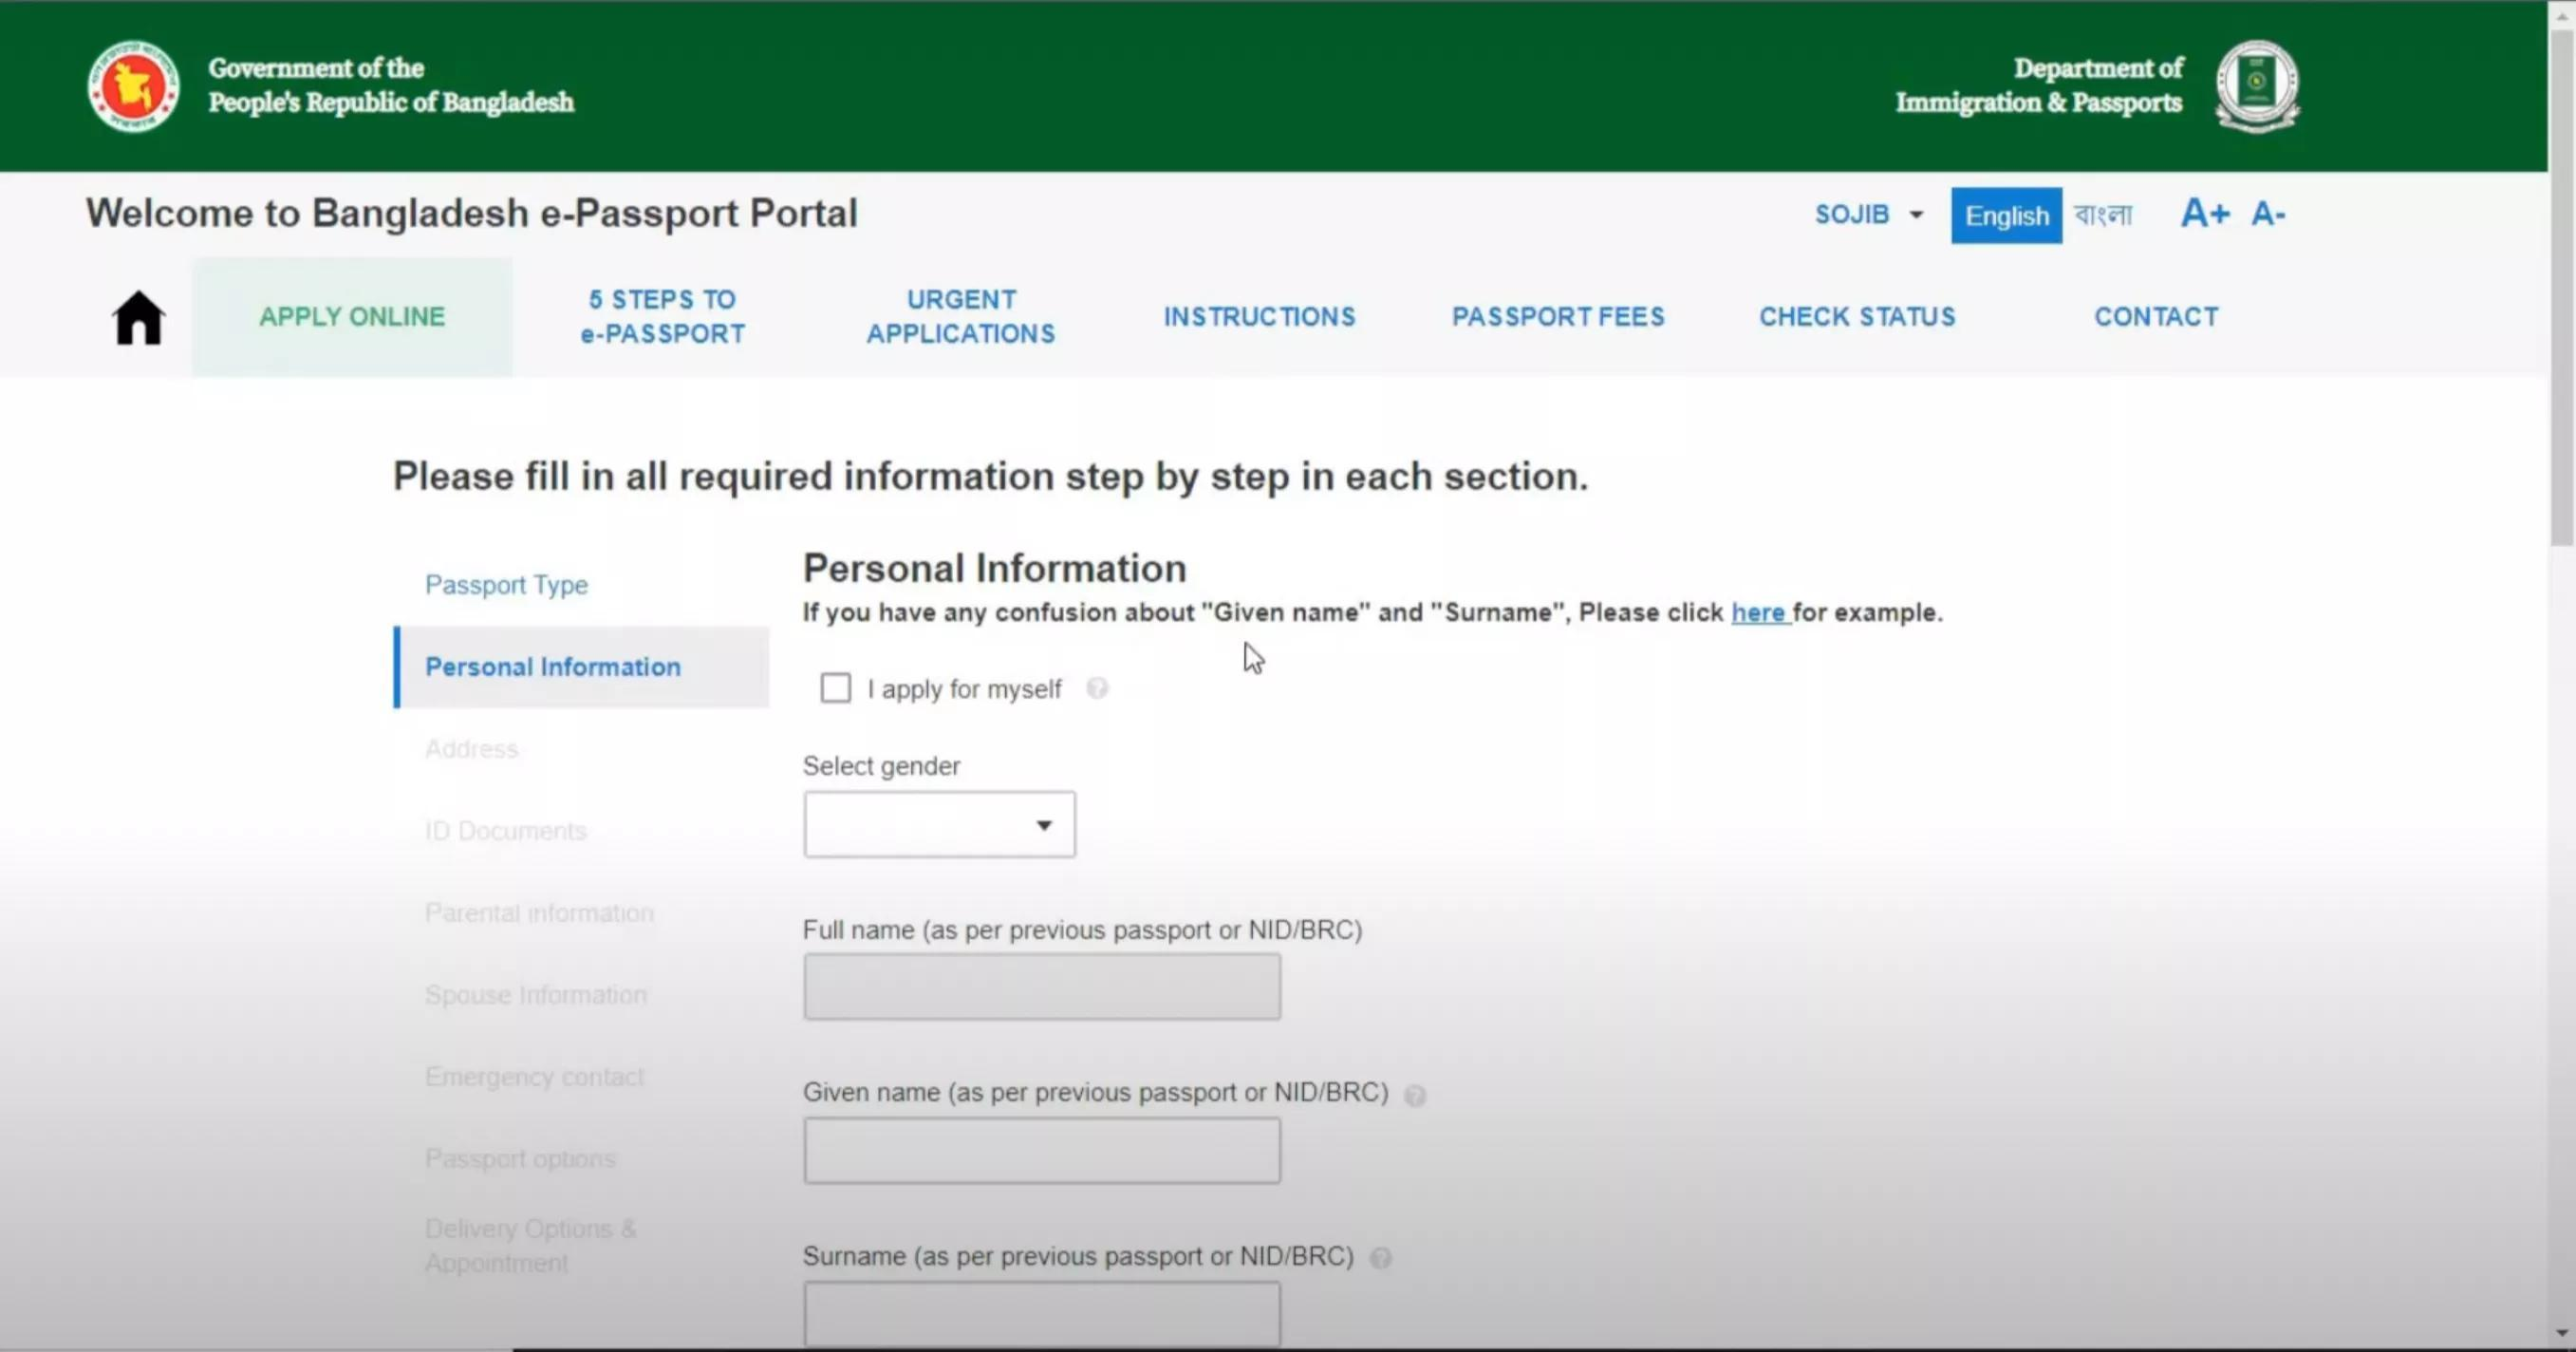button: (193, 259, 518, 373), (394, 626, 770, 709), (1951, 188, 2065, 246)
checkbox: (821, 673, 854, 704)
dropdown: (801, 789, 1082, 863)
icon: (107, 288, 167, 356), (1406, 1083, 1429, 1112), (1370, 1246, 1395, 1272), (1087, 675, 1111, 702)
input: (801, 1279, 1286, 1352), (801, 1113, 1285, 1187), (801, 953, 1286, 1023)
label: (365, 431, 1591, 506), (85, 189, 869, 235), (797, 602, 1946, 633), (201, 51, 593, 124), (1883, 51, 2196, 116), (799, 912, 1373, 946), (796, 1079, 1400, 1110), (794, 546, 1189, 588), (794, 1243, 1356, 1272), (426, 1216, 644, 1279), (865, 285, 1058, 346), (581, 283, 746, 350), (1450, 298, 1666, 332), (421, 1142, 622, 1178), (421, 898, 663, 927), (862, 673, 1067, 708), (1750, 302, 1966, 332), (419, 980, 651, 1008), (421, 1064, 654, 1089), (417, 573, 593, 602), (1159, 303, 1356, 329), (421, 815, 591, 844), (796, 750, 963, 777), (2092, 297, 2217, 329), (414, 737, 523, 766)
